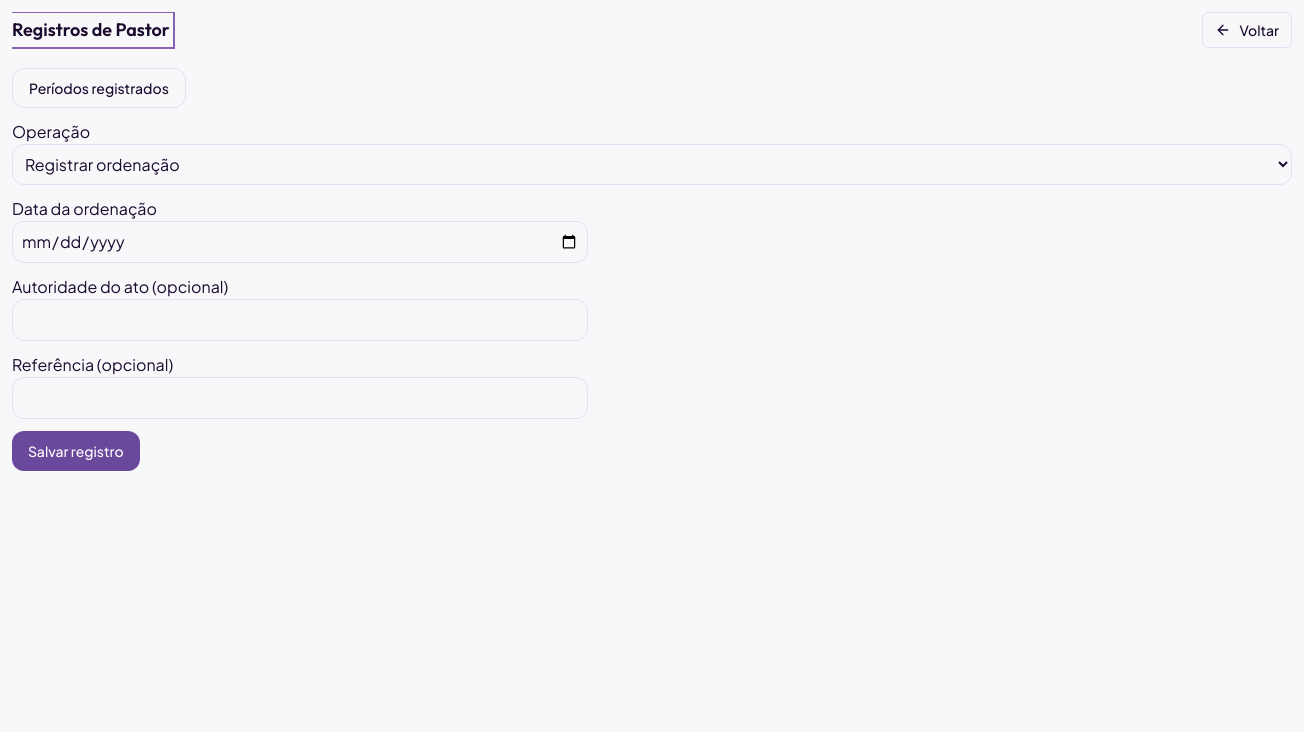
Test case: registra a ordenação do docente com data obrigatória e sem exigir ordem ou comprovação
This screenshot has width=1304, height=732.
Click the button "Salvar registro": (76, 451) [12, 431, 140, 471]
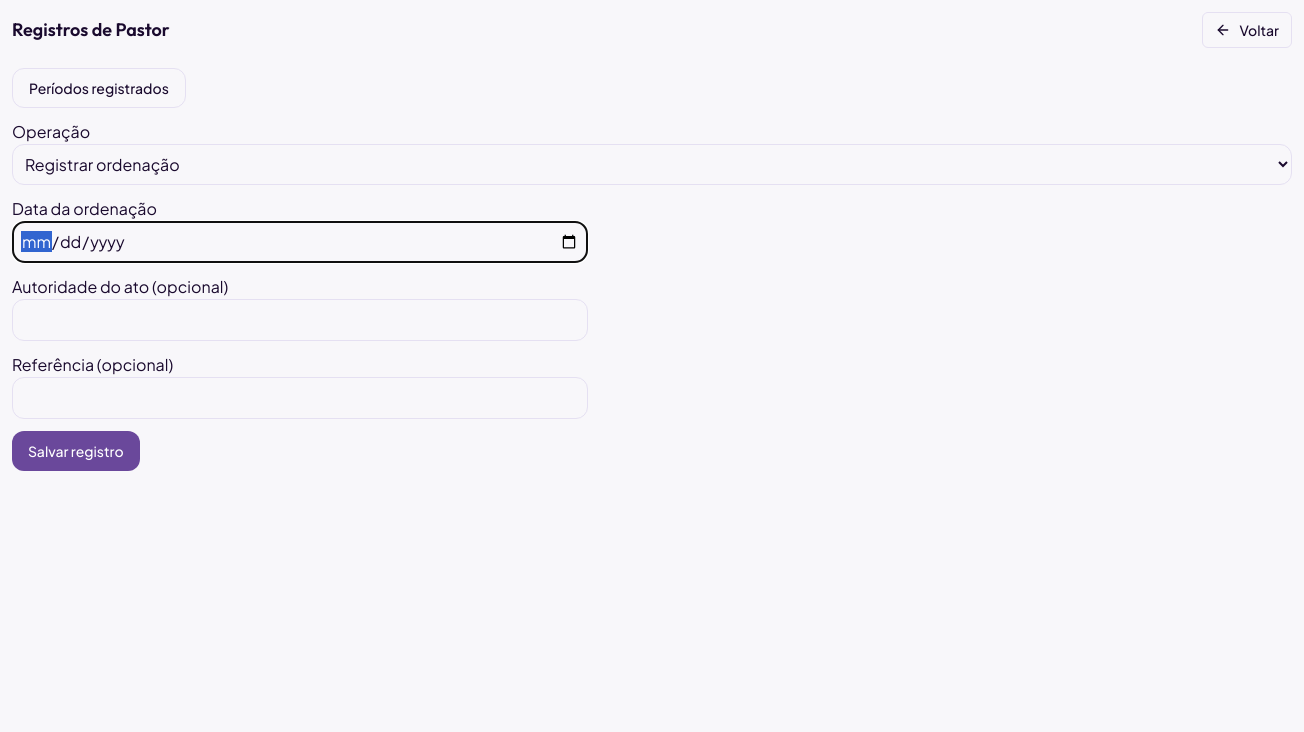
In the date field labelled "Data da ordenação": (300, 242) [12, 221, 588, 263], type "2016-10-01"
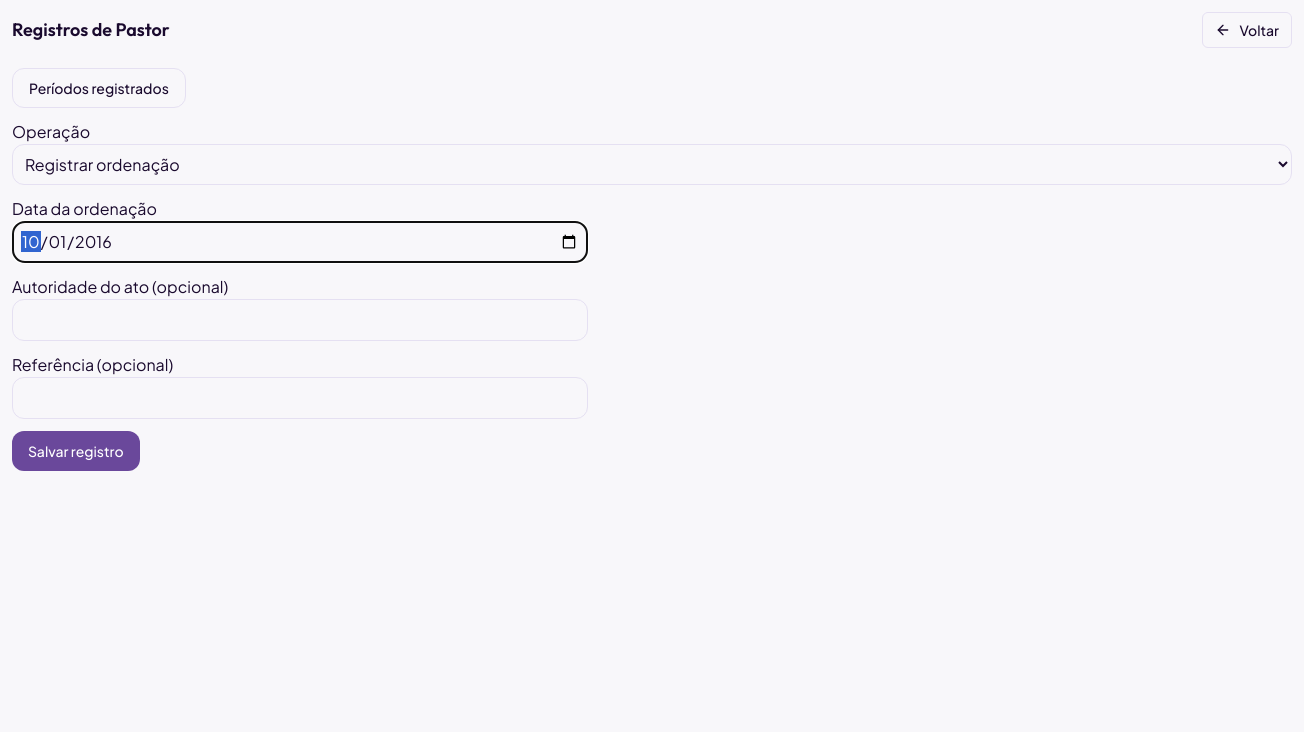
Click the button "Salvar registro": (76, 451) [12, 431, 140, 471]
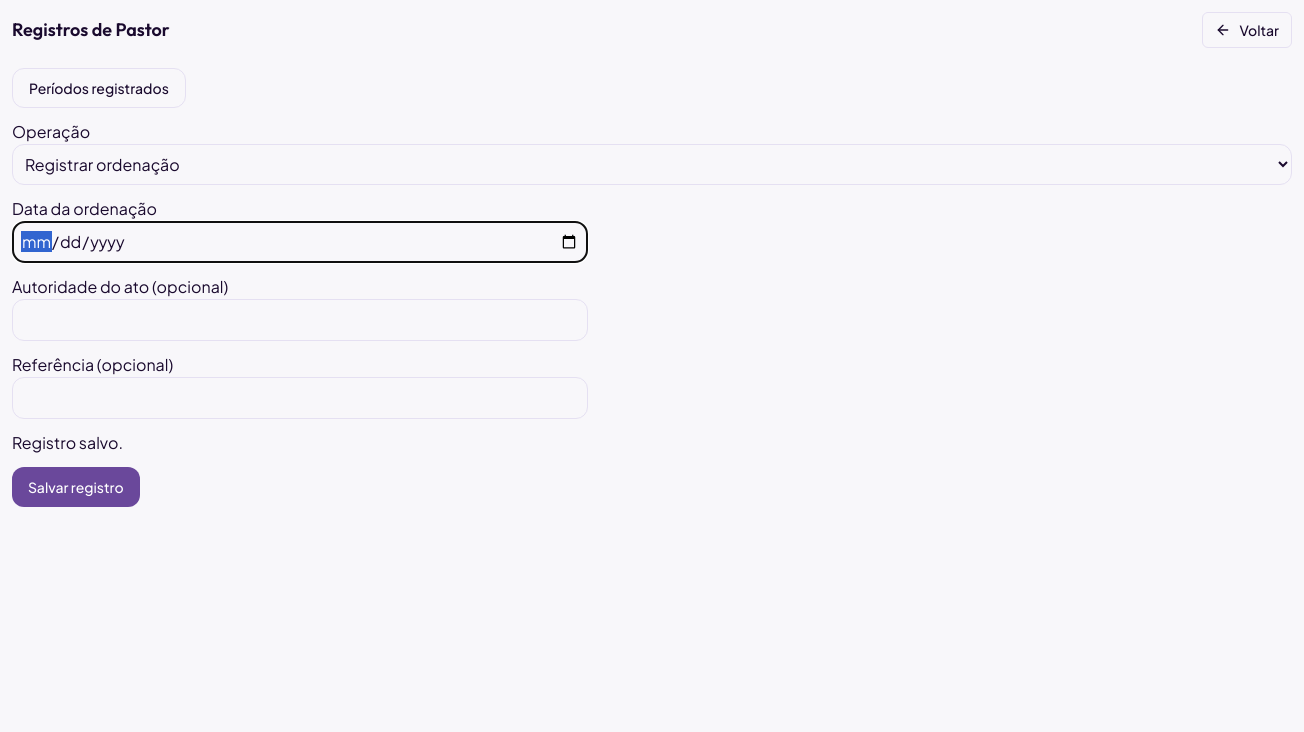
Check: the text "Registro salvo." is shown, box [12, 432, 123, 453]
